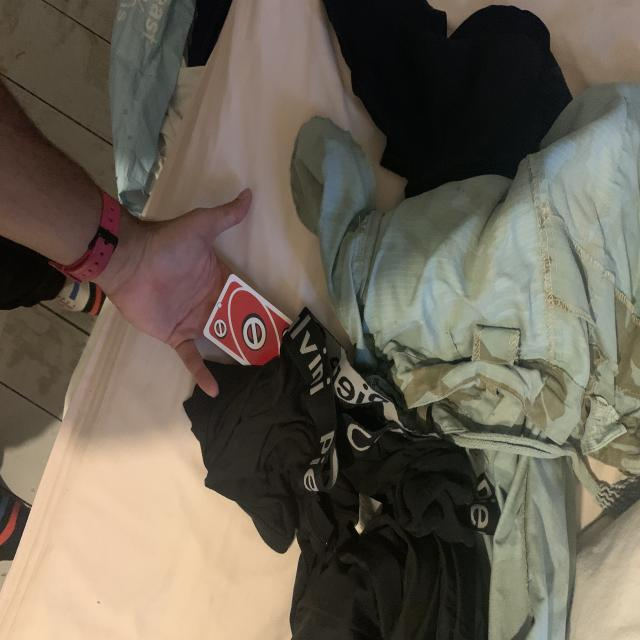lredskip-20: (210, 316, 232, 343)
